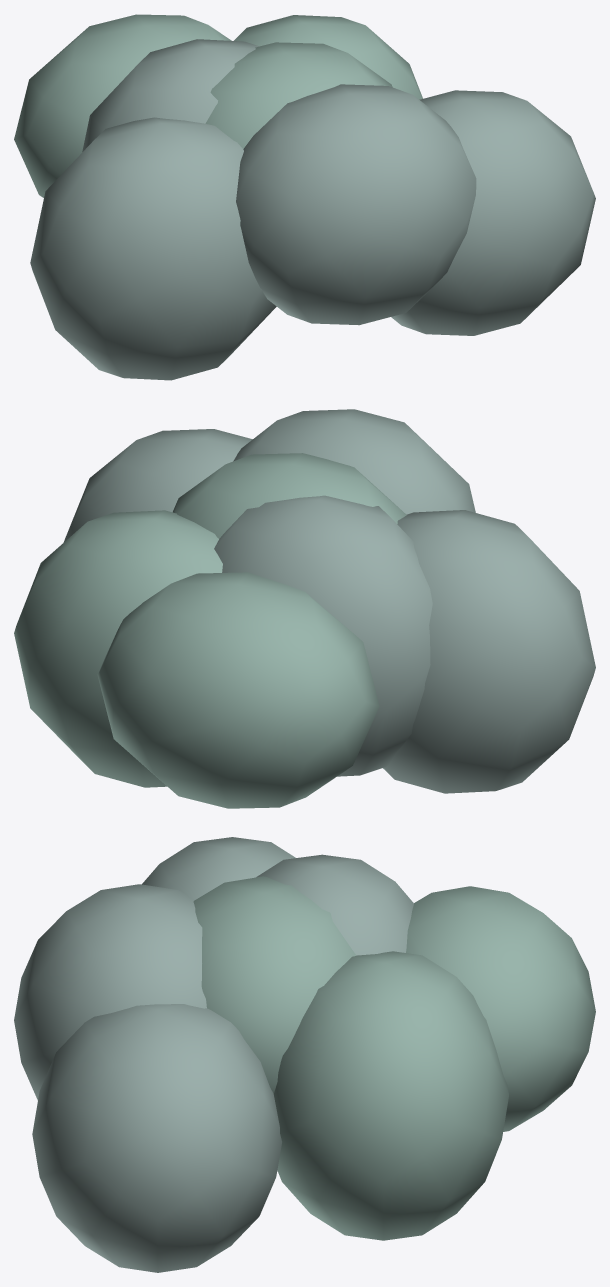
The model's file is bush-0.glb.
3 renders of one model, top to bottom at view 1: azimuth 30°, elevation 25°; view 2: azimuth 150°, elevation 25°; view 3: azimuth 270°, elevation 25°, orthographic. The views are drawn at different scales.
Visible parts, largest first — view 1: Bush_Clump.004, Bush_Clump.002, Bush_Clump.005, Bush_Clump.006, Bush_Clump, Bush_Clump.001, Bush_Clump.003; view 2: Bush_Clump.006, Bush_Clump.004, Bush_Clump.003, Bush_Clump.001, Bush_Clump.002, Bush_Clump.005, Bush_Clump; view 3: Bush_Clump.005, Bush_Clump.003, Bush_Clump.006, Bush_Clump.002, Bush_Clump, Bush_Clump.001, Bush_Clump.004.
Part boxes in pixels (x1,y1,x2,y2): Bush_Clump.004: (30,117,276,380); Bush_Clump.002: (236,84,476,325); Bush_Clump.005: (391,90,595,335); Bush_Clump.006: (14,14,231,197); Bush_Clump: (205,42,392,148); Bush_Clump.001: (82,39,259,151); Bush_Clump.003: (234,15,422,99); Bush_Clump.006: (97,572,379,808); Bush_Clump.004: (383,510,595,793); Bush_Clump.003: (14,510,222,787); Bush_Clump.001: (214,495,432,776); Bush_Clump.002: (233,409,475,514); Bush_Clump.005: (63,429,252,542); Bush_Clump: (173,453,406,538); Bush_Clump.005: (32,1004,281,1272); Bush_Clump.003: (273,951,508,1240); Bush_Clump.006: (406,886,595,1131); Bush_Clump.002: (14,884,206,1100); Bush_Clump: (193,876,356,1093); Bush_Clump.001: (256,854,413,955); Bush_Clump.004: (142,837,295,899).
Size of the model in its own units: 1.51 by 0.7885 by 1.38.
